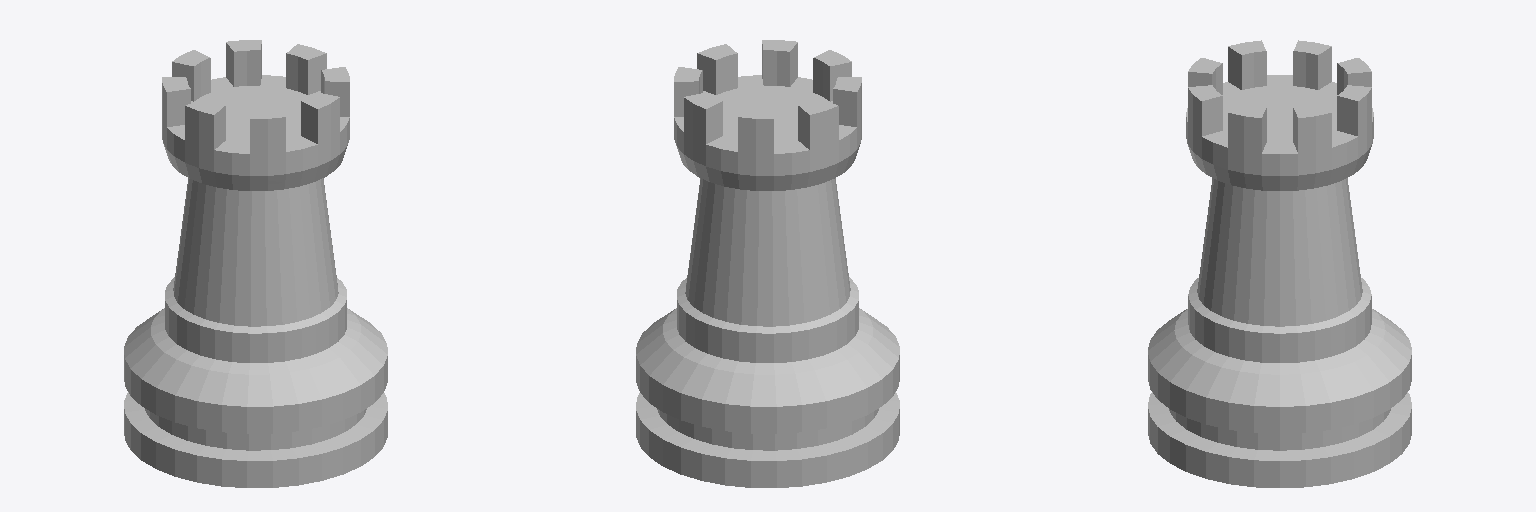
The model's file is Rook_Black.obj.
3 renders of one model, left to right at view 1: azimuth 30°, elevation 25°; view 2: azimuth 150°, elevation 25°; view 3: azimuth 270°, elevation 25°, orthographic.
Visible parts, largest first — view 1: ChessRook; view 2: ChessRook; view 3: ChessRook.
Boxes of the visible parts, <box> form: ChessRook: <box>124,40,387,487</box>; ChessRook: <box>636,40,899,487</box>; ChessRook: <box>1148,40,1411,487</box>.
Size of the model in its own units: 1.45 by 2.13 by 1.45.